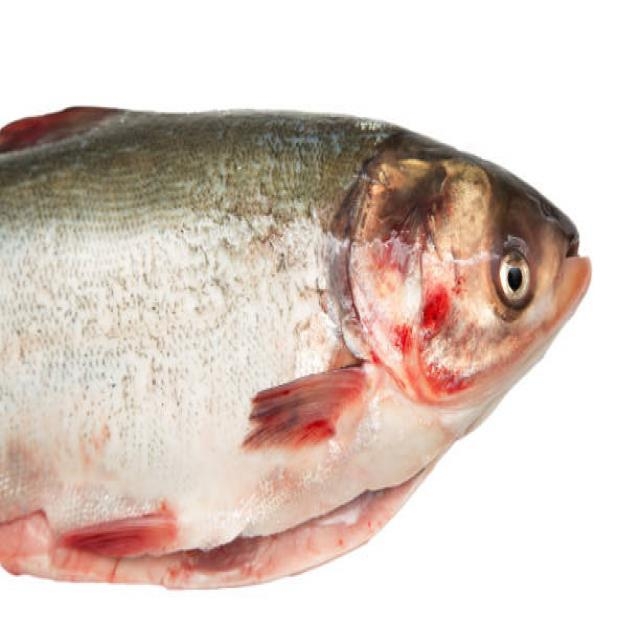EUS Disease: (0, 105, 591, 591), (374, 252, 501, 416)
